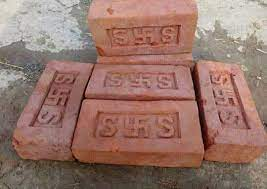brick: (70, 99, 204, 153), (14, 59, 93, 142), (197, 60, 266, 146), (89, 11, 199, 58), (85, 63, 197, 97)
